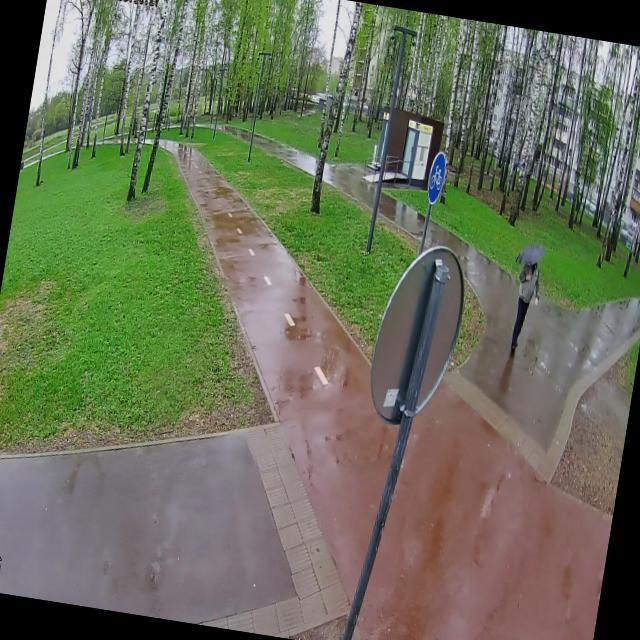person: (507, 257, 544, 356)
